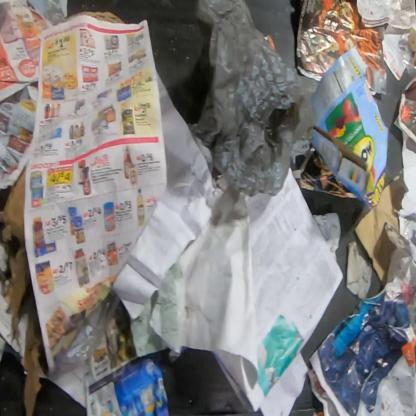cardboard: (306, 45, 390, 210), (354, 166, 409, 288), (0, 163, 32, 339), (22, 301, 48, 416)
soft_plastic: (192, 0, 301, 197), (48, 294, 120, 381)
